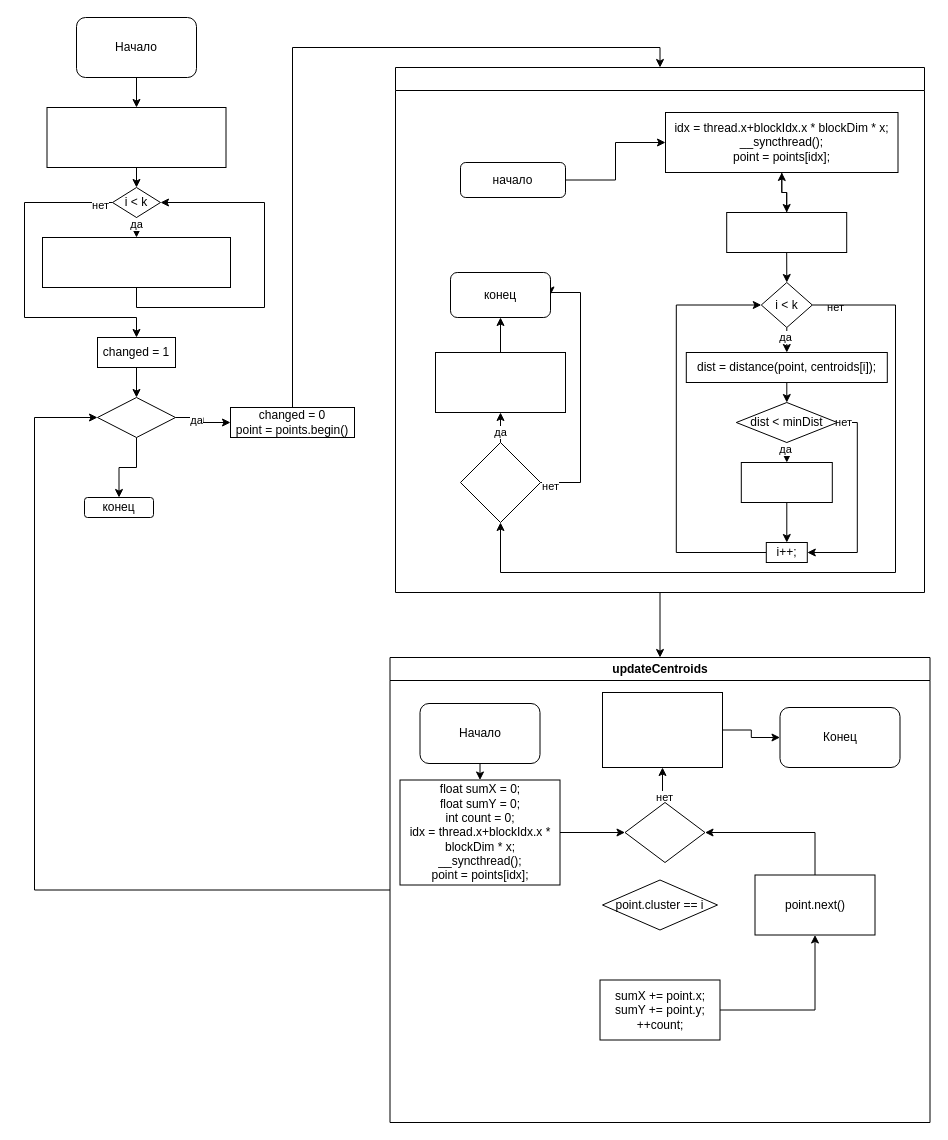
Some shapes in this 948 by 1140 pixel diagram are drawn without their labels. Each missing label, with the box of its shape:
centroids[i] = cout > 0 ? Point(sumX / count, sumY / count) : Point (0,0); i++;: (602, 692, 722, 768)
changed >0: (96, 396, 176, 438)
idX = distrib.next(); centroids.pushback(points[idx]); i++;: (42, 236, 230, 288)
kernel_clusterPoints: (394, 66, 924, 592)
minDist = dist; nearest = i;: (740, 462, 832, 502)
nearest = -1; minDist = 99999999; i = 0;: (726, 212, 847, 252)
point != points.end(): (624, 802, 705, 862)
point.cluster != nearest: (460, 442, 540, 522)
point.cluster = nearest; changed++;: (434, 352, 566, 412)
points = {Point{0,0}...}; k = 10000; distrib = rand(0, points.size()); i = 0;: (46, 106, 226, 168)
